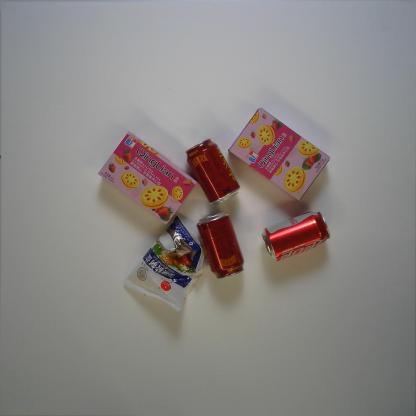Dessert: (227, 106, 330, 202), (97, 131, 198, 225)
Drink: (185, 138, 241, 206), (261, 210, 331, 262), (196, 211, 244, 279)
Seasoner: (122, 210, 212, 315)
